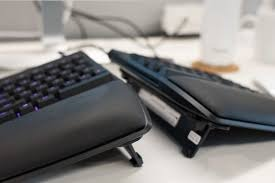keyboard: (10, 33, 272, 176), (0, 47, 151, 183)
